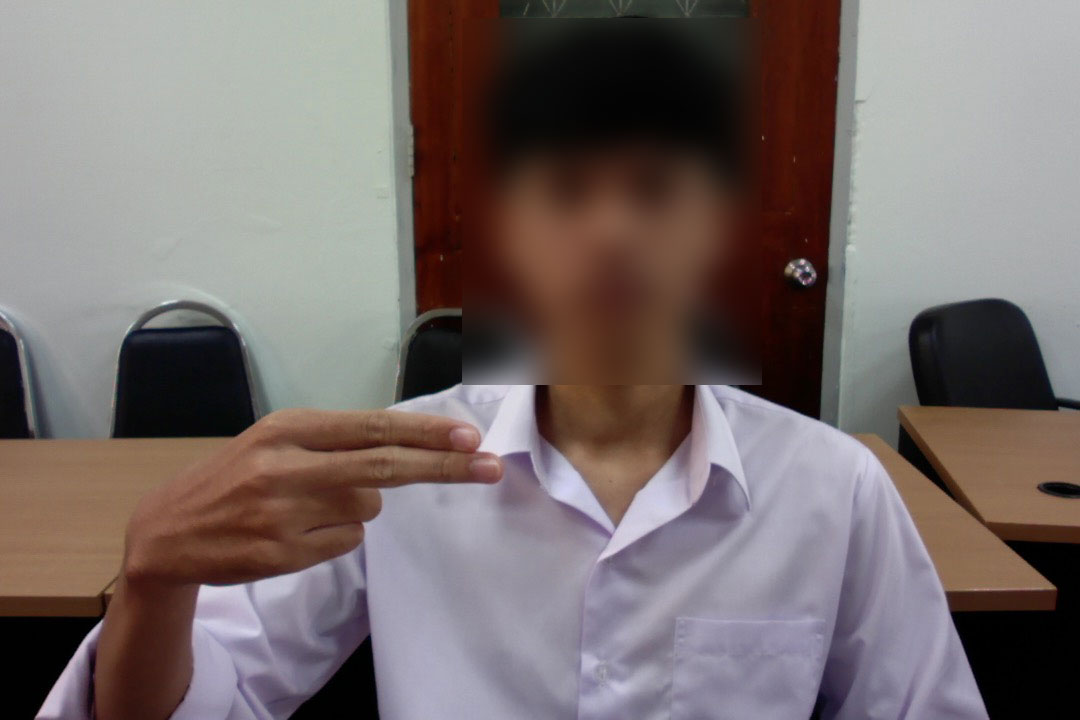hor: (99, 404, 519, 590)
